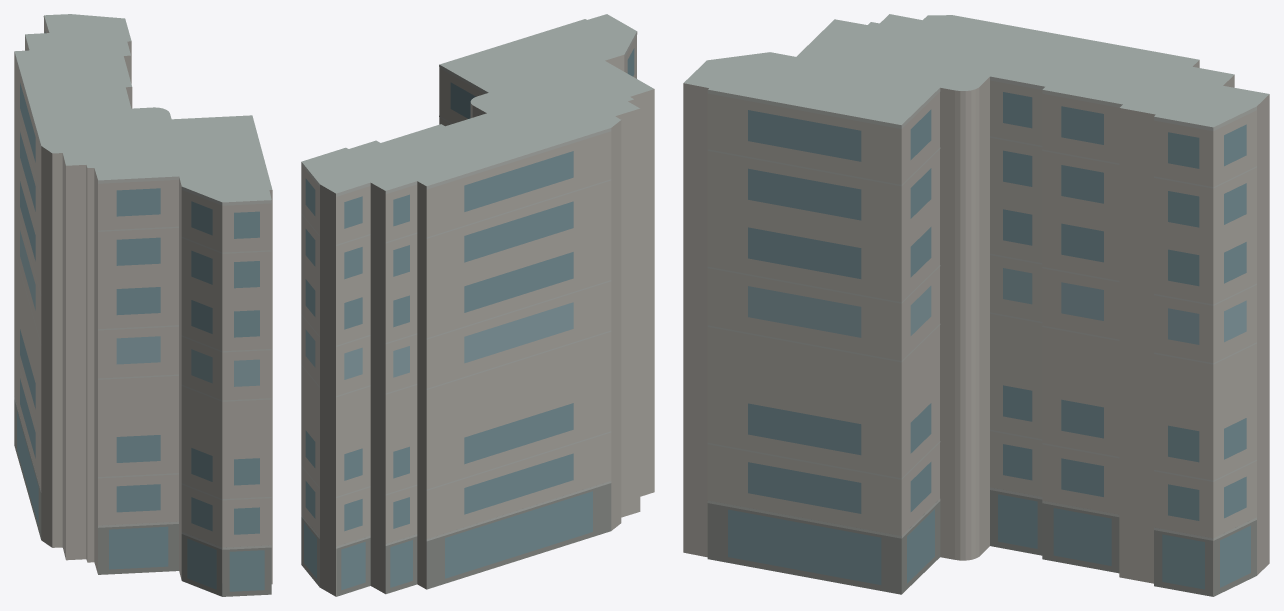
File: survey-upis-32734042.glb
3 views of the same model, side by side, from view 1: azimuth 30°, elevation 25°; view 2: azimuth 150°, elevation 25°; view 3: azimuth 270°, elevation 25° (orthographic). The views are drawn at different scales.
Visible parts, largest first — view 1: survey-upis-32734042.tmp; view 2: survey-upis-32734042.tmp; view 3: survey-upis-32734042.tmp.
Boxes of the visible parts, x1,y1,x2,y2 form: survey-upis-32734042.tmp: [14, 14, 272, 596]; survey-upis-32734042.tmp: [301, 14, 654, 596]; survey-upis-32734042.tmp: [683, 14, 1269, 596].
Bounding box in the file's own units: 15.2 × 29.3 × 33.18.
